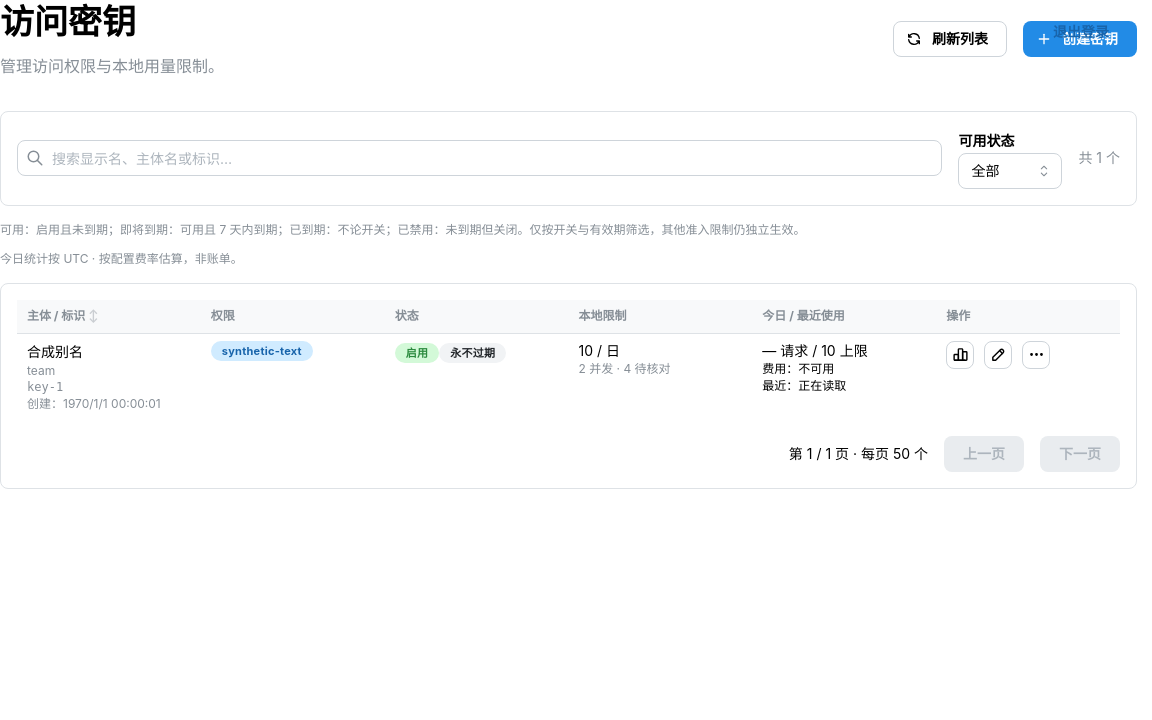
Test: edits display name with conflict=false and searches the alias
Expected: the text "合成别名" is shown, [27,343,83,360]
Expected: the text "team" is shown, [27,363,55,378]
Type "合成别名" into the field with placeholder "搜索显示名、主体名或标识…" at x=480, y=158, box [17,140,942,176]
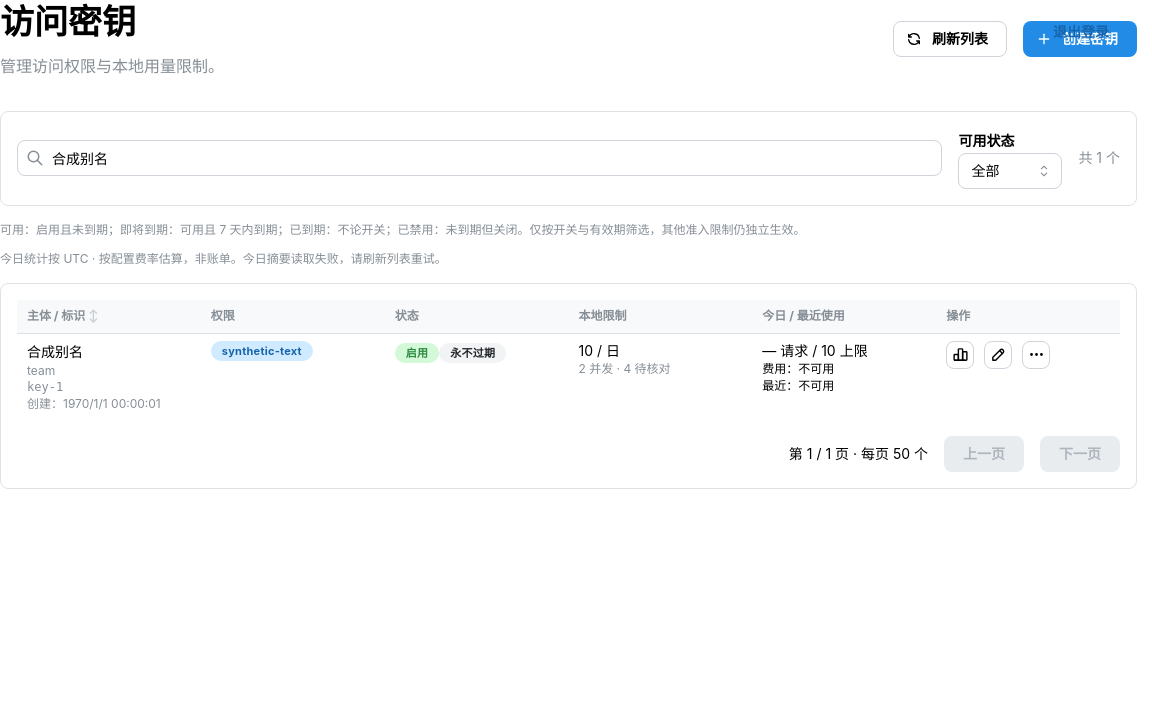
Click the button named "编辑" at x=998, y=355, box [984,341,1012,369]
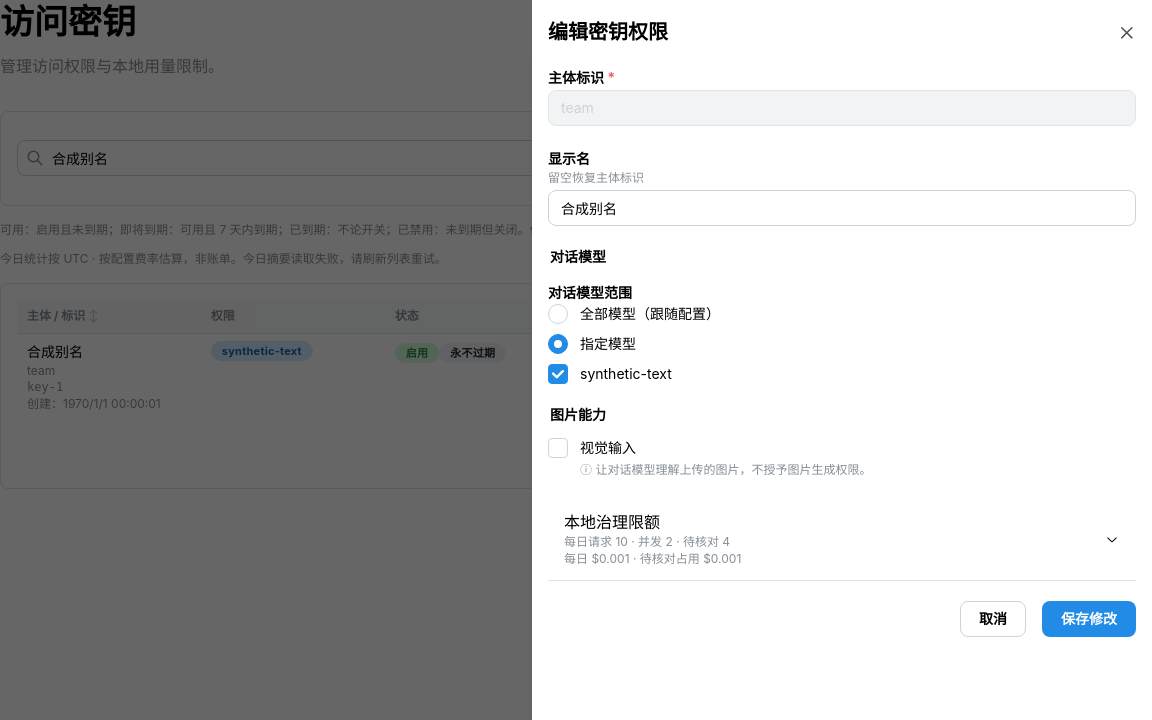
Clear the field labelled "显示名" at x=842, y=208, box [548,190,1136,226]
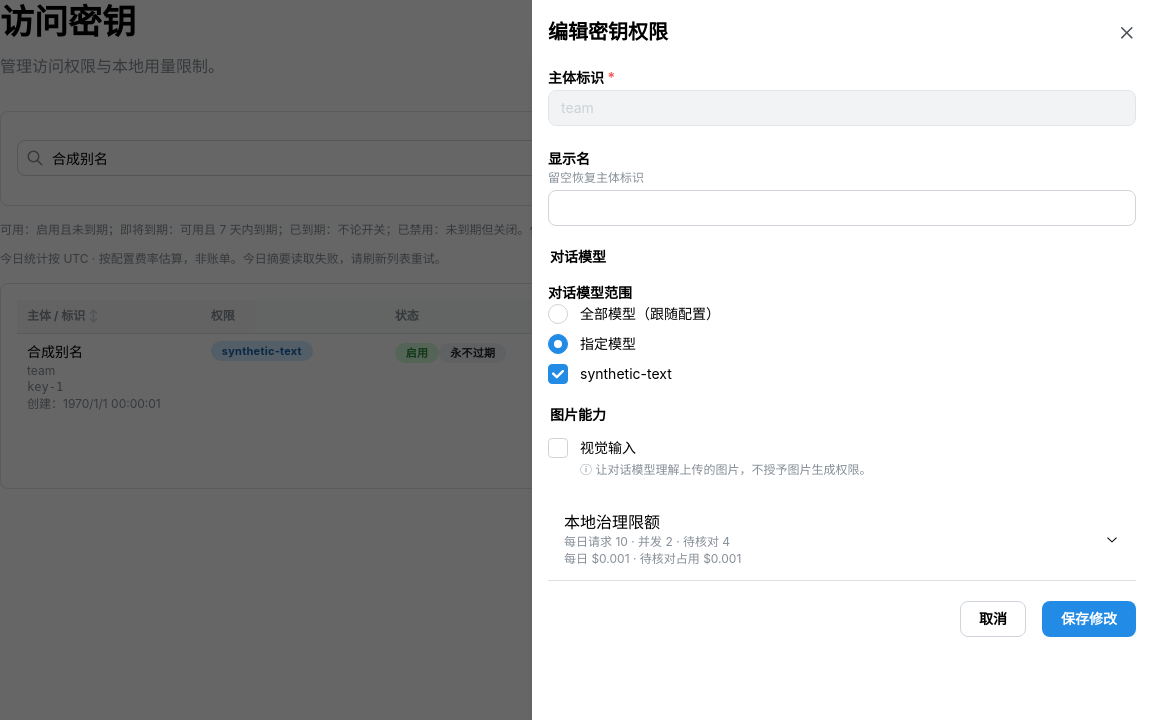
Click the button "保存修改" at x=1089, y=619, box [1042,601,1136,637]
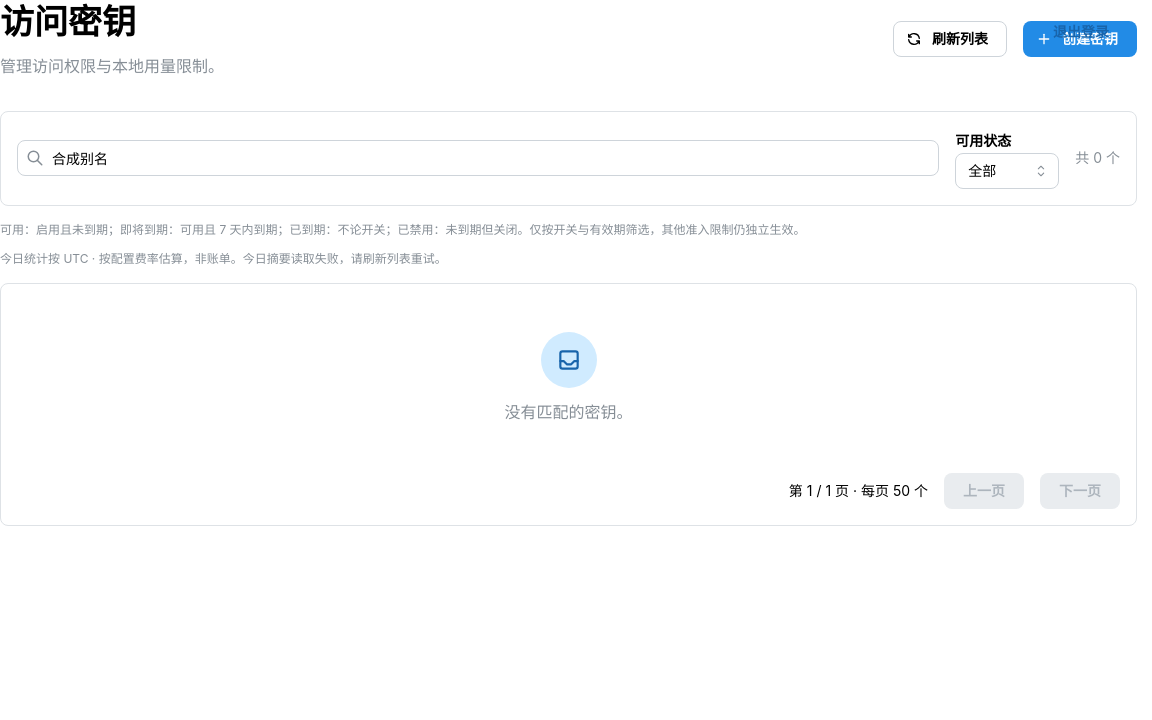
Expected: the button "保存修改" is gone
